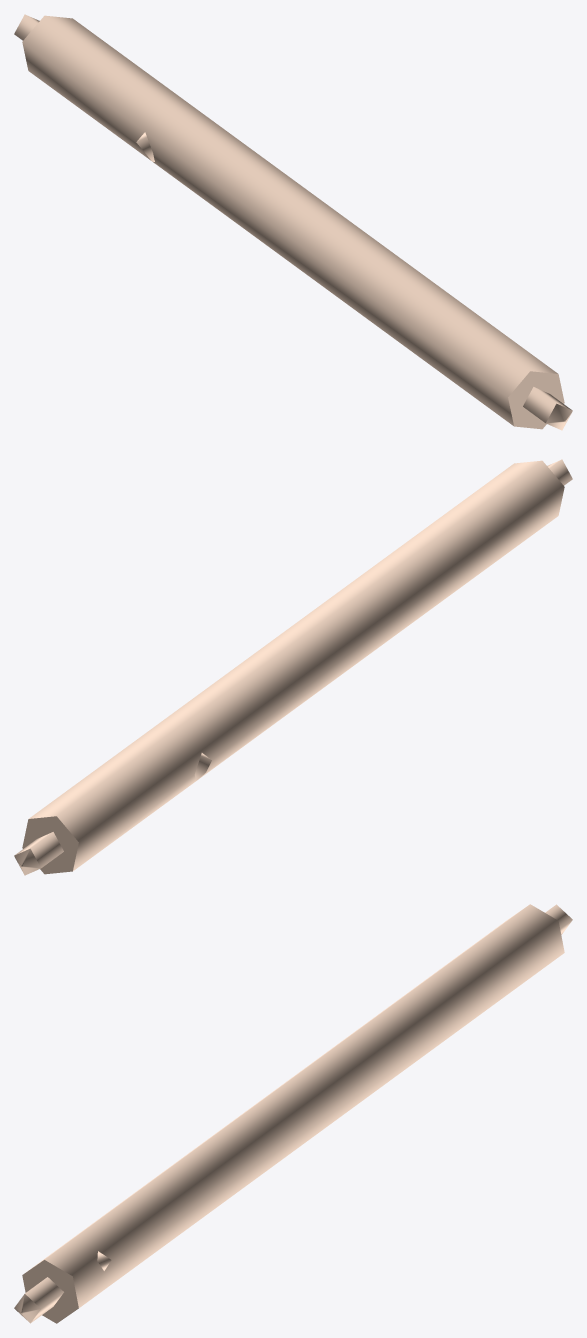
The model's file is Axe detente_Quarts.obj.
The picture shows the model from 3 angles, top to bottom: view 1: azimuth 30°, elevation 25°; view 2: azimuth 150°, elevation 25°; view 3: azimuth 330°, elevation 25°; orthographic projection.
Visible parts, largest first — view 1: Face_6, Face_5, Face_4; view 2: Face_6, Face_7, Face_8; view 3: Face_6, Face_5, Face_4.
Boxes of the visible parts, box(x1,y1,x2,y2) form: Face_6: box(22, 15, 557, 425); Face_5: box(508, 371, 564, 429); Face_4: box(523, 387, 571, 423); Face_6: box(29, 460, 564, 870); Face_7: box(22, 816, 78, 874); Face_8: box(15, 832, 63, 868); Face_6: box(27, 904, 564, 1307); Face_5: box(22, 1260, 78, 1323); Face_4: box(25, 1277, 63, 1322).
Bounding box in the file's own units: 0.00584 × 0.00587 × 0.0946.
